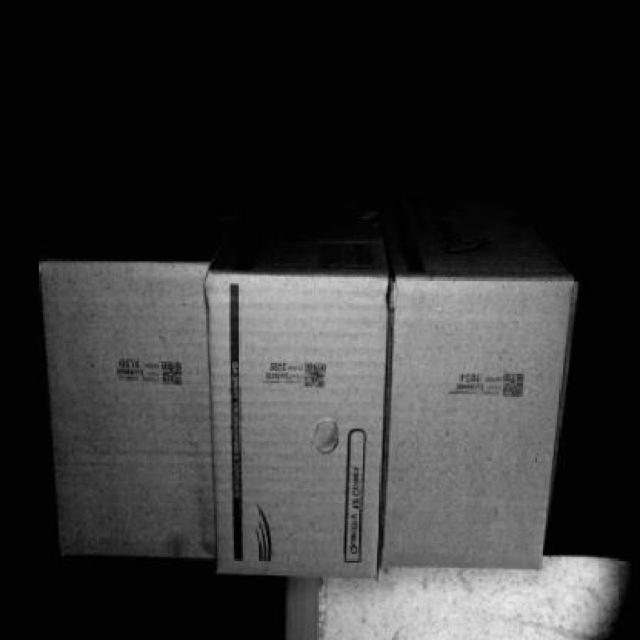cardboxes: (381, 280, 568, 583), (42, 263, 212, 562), (213, 283, 384, 575)
